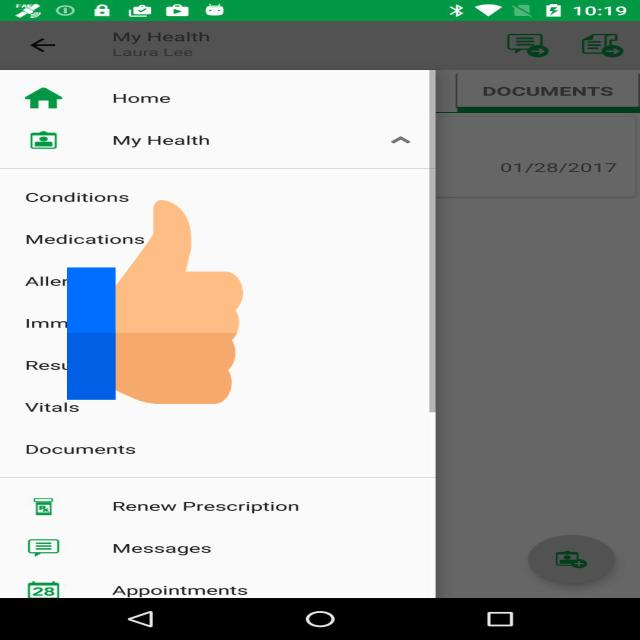privacy zuckering: (67, 195, 243, 409)
